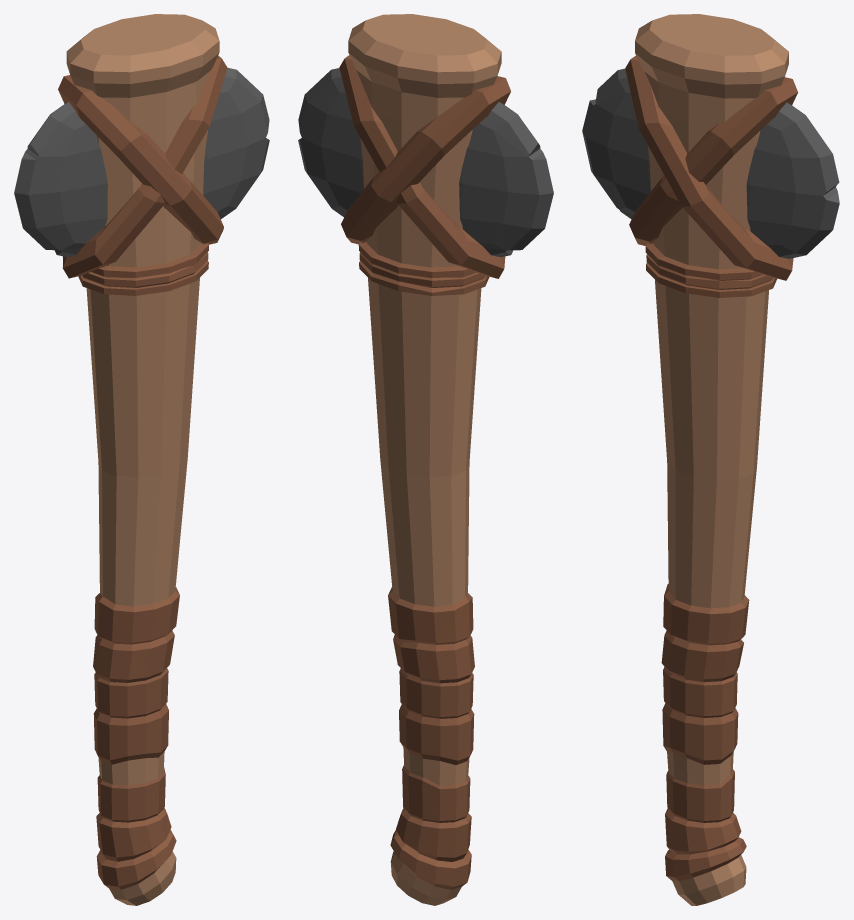
File: Stone Club.fbx
3 renders of one model, left to right at view 1: azimuth 30°, elevation 25°; view 2: azimuth 150°, elevation 25°; view 3: azimuth 330°, elevation 25°, orthographic.
Visible parts, largest first — view 1: Stone Club; view 2: Stone Club; view 3: Stone Club.
Boxes of the visible parts, <box> form: Stone Club: <box>14,14,269,905</box>; Stone Club: <box>298,14,553,905</box>; Stone Club: <box>582,14,839,905</box>.
Bounding box in the file's own units: 42.57 × 138 × 17.73.
